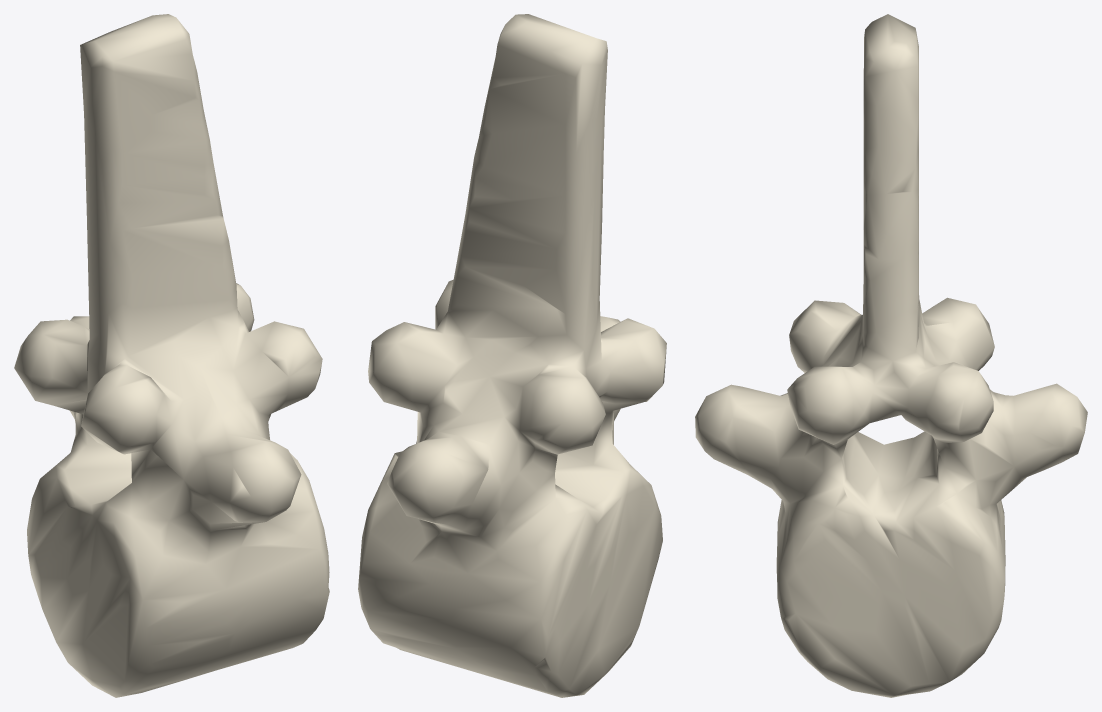
Rendered from thoracic_13.glb.
3 renders of one model, left to right at view 1: azimuth 30°, elevation 25°; view 2: azimuth 150°, elevation 25°; view 3: azimuth 270°, elevation 25°, orthographic. The views are drawn at different scales.
Visible parts, largest first — view 1: geometry_0; view 2: geometry_0; view 3: geometry_0.
Part boxes in pixels (x1,y1,x2,y2): geometry_0: [14, 14, 329, 697]; geometry_0: [358, 14, 666, 697]; geometry_0: [695, 14, 1087, 697].
Bounding box in the file's own units: 0.1267 × 0.3443 × 0.1992.
